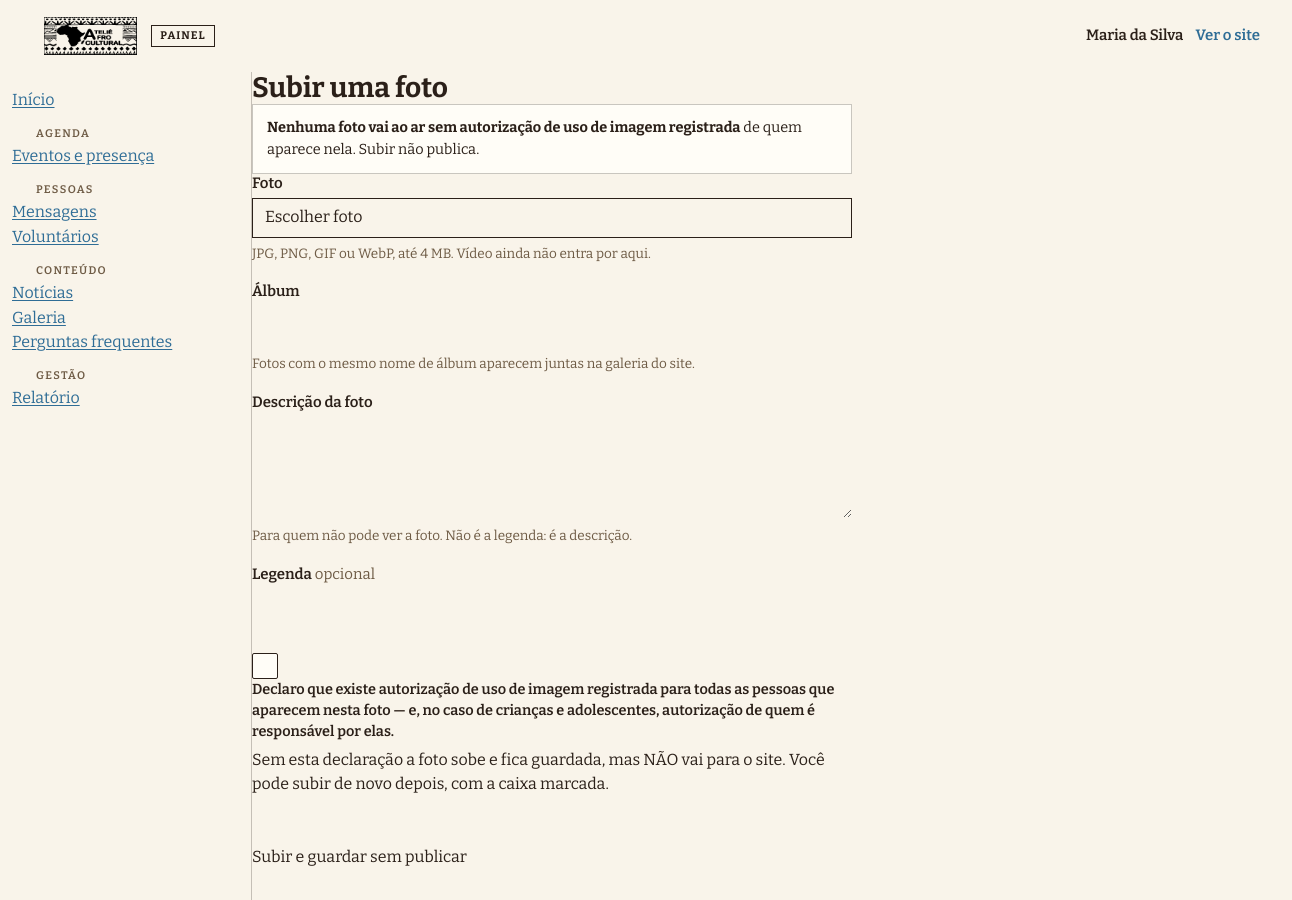
Test: sending a photo (designs 11j and 11l) › changes the help and the button when the declaration is ticked
expect the heading "Subir uma foto" is shown: met, box [252,71,448,104]
expect the text "Sem esta declaração a foto sobe e fica guardada, mas NÃO vai para o site" is shown: met, box [252,750,825,793]
Click the checkbox labelled "Declaro que existe autorização".
click(543, 689)  # box [252,653,852,797]
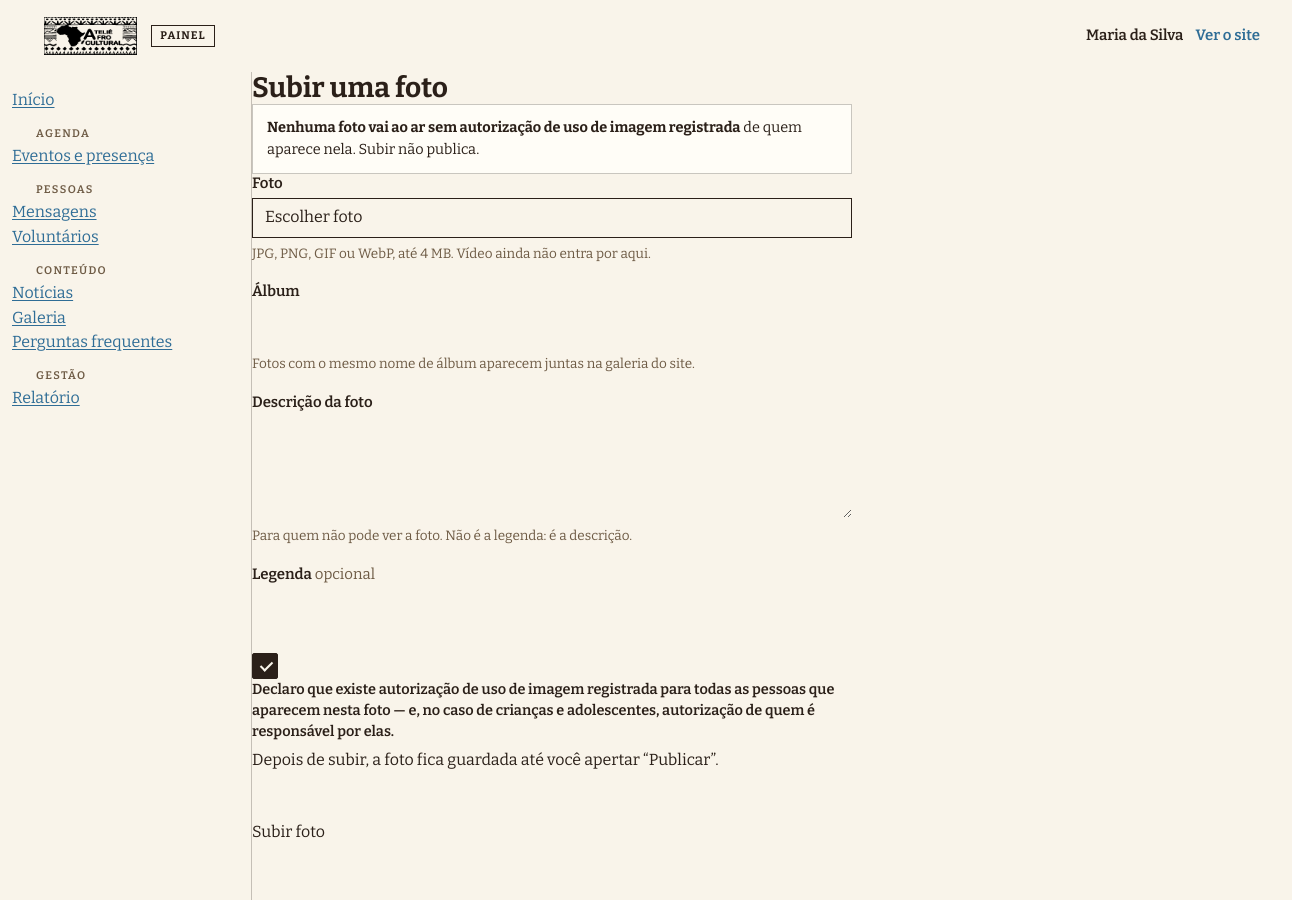
expect the text "Depois de subir, a foto fica guardada até você apertar “Publicar”." is shown: met, box [252,750,719,769]
expect the text "Sem esta declaração" is gone: met
expect the button "Subir foto" is shown: met, box [252,820,325,845]
